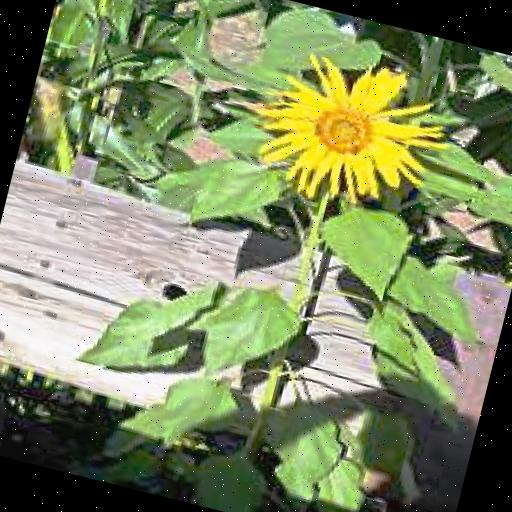sunflower: (242, 37, 449, 221)
